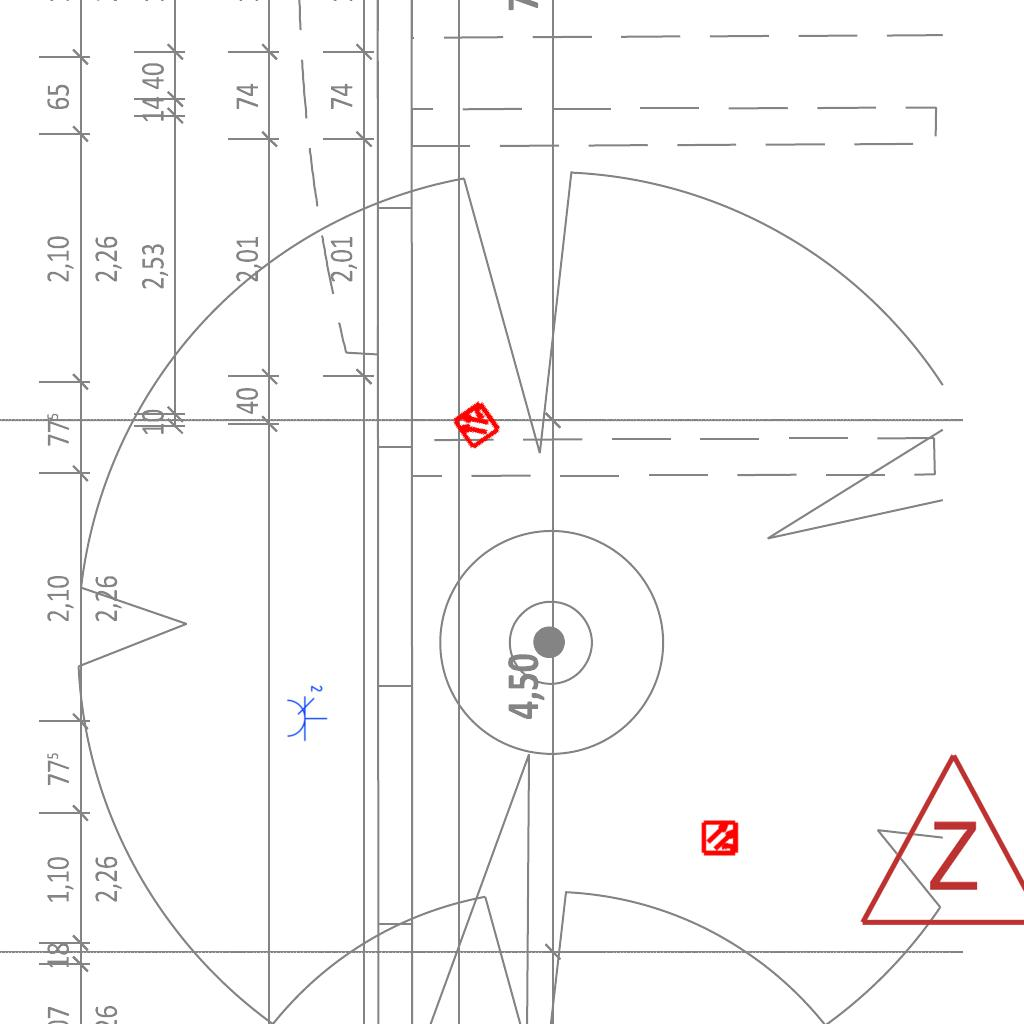OT_Multisensormelder_(Kombination_RMO_WMD): (437, 385, 515, 463), (693, 810, 749, 866)
Schukosteckdose_mehrfach: (284, 682, 328, 742)
Zimmersignalleuchte: (853, 740, 1024, 940)
